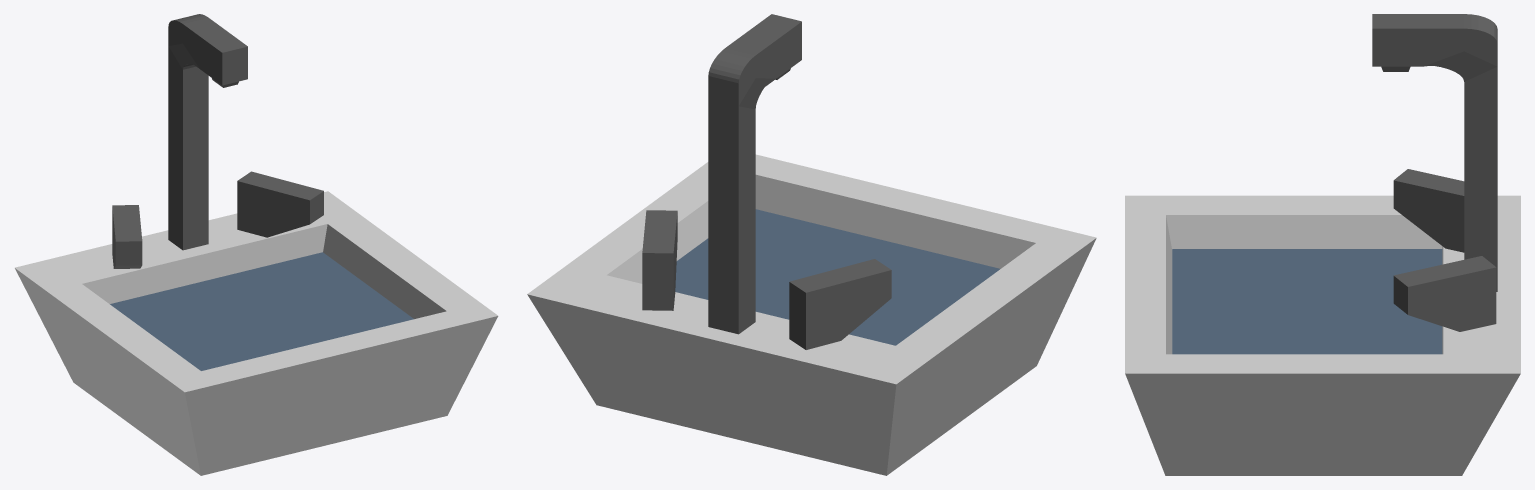
The model's file is sink.fbx.
3 views of the same model, side by side, from view 1: azimuth 30°, elevation 25°; view 2: azimuth 150°, elevation 25°; view 3: azimuth 270°, elevation 25° (orthographic). The views are drawn at different scales.
Parts seen in each view (by area): view 1: Cube, Cube.002, Cube.001; view 2: Cube, Cube.001, Cube.002; view 3: Cube, Cube.002, Cube.001.
Boxes of the visible parts, left/top/right/bottom form: Cube: left=15, top=191, right=498, bottom=475; Cube.002: left=110, top=252, right=413, bottom=370; Cube.001: left=112, top=14, right=323, bottom=268; Cube: left=527, top=154, right=1096, bottom=475; Cube.001: left=642, top=14, right=891, bottom=349; Cube.002: left=675, top=209, right=999, bottom=345; Cube: left=1125, top=195, right=1520, bottom=475; Cube.002: left=1172, top=249, right=1442, bottom=354; Cube.001: left=1372, top=14, right=1497, bottom=331.
Size of the model in its own units: 118 by 119 by 111.
